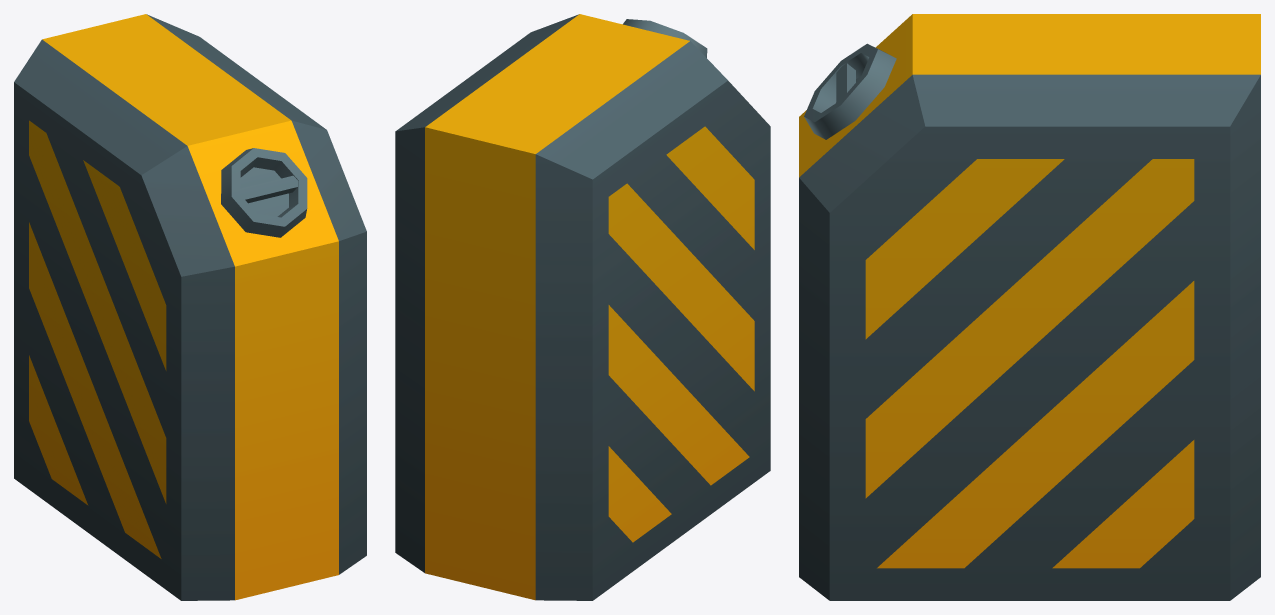
The model's file is Gas_can_008.glb.
3 views of the same model, side by side, from view 1: azimuth 30°, elevation 25°; view 2: azimuth 150°, elevation 25°; view 3: azimuth 270°, elevation 25° (orthographic). The views are drawn at different scales.
Parts seen in each view (by area): view 1: Gas_can_008; view 2: Gas_can_008; view 3: Gas_can_008.
Boxes of the visible parts, bbox=[...] form: Gas_can_008: bbox=[14, 14, 366, 600]; Gas_can_008: bbox=[395, 14, 770, 600]; Gas_can_008: bbox=[799, 14, 1260, 600].
Bounding box in the file's own units: 0.25 × 0.54 × 0.45.
Materials: 1 (1 with a texture image).
